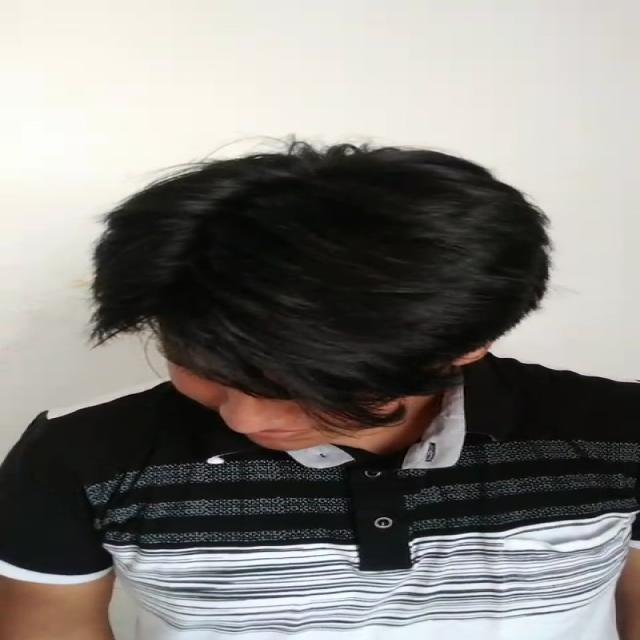9_cabeza_baja: (91, 148, 549, 450)
